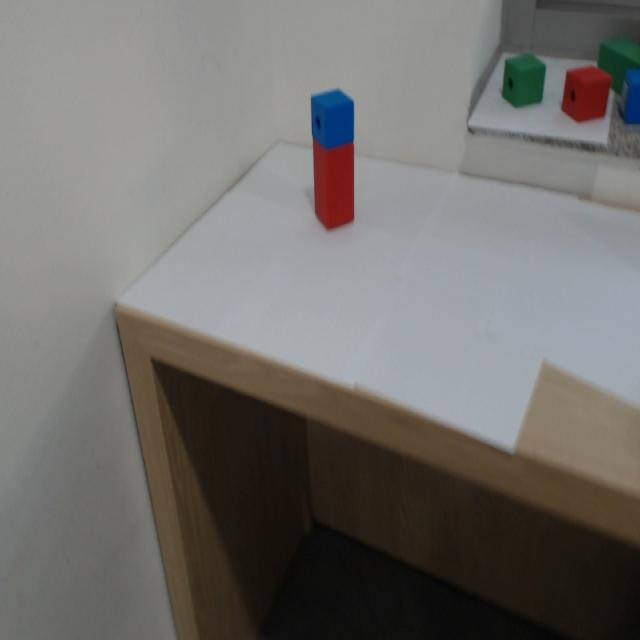cube: (297, 83, 366, 145)
